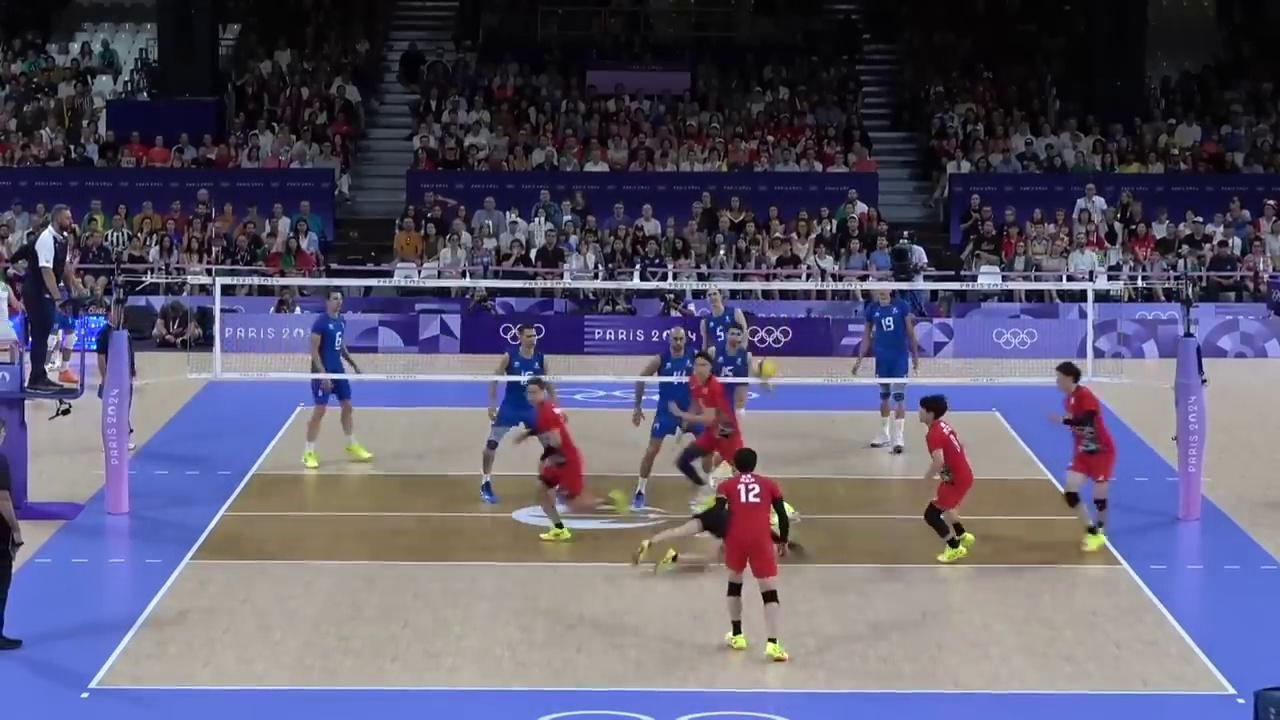ball: (758, 359, 778, 379)
